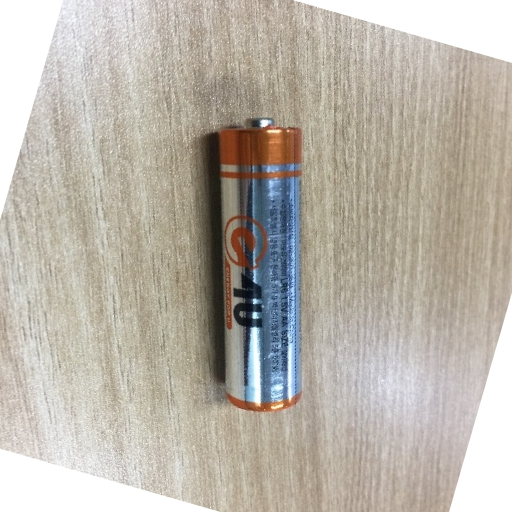Battery_0: (196, 101, 318, 420)
